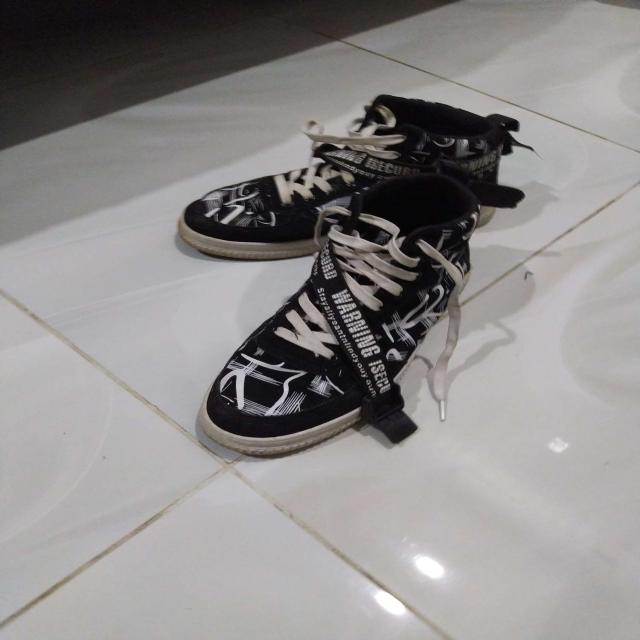shoe: (197, 174, 525, 456), (178, 92, 521, 262)
